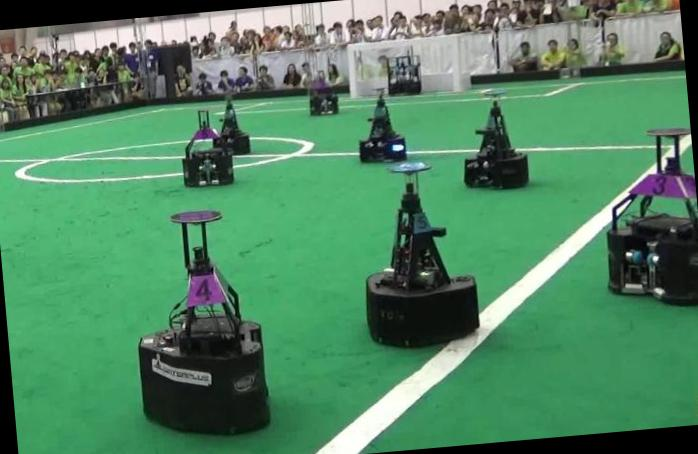goal: (452, 35, 462, 91), (349, 44, 358, 97)
robot: (138, 209, 269, 432), (366, 161, 479, 347), (607, 127, 698, 303), (464, 100, 528, 187), (183, 109, 232, 185), (359, 94, 406, 161), (221, 96, 249, 154), (387, 54, 420, 94), (309, 70, 338, 114)
